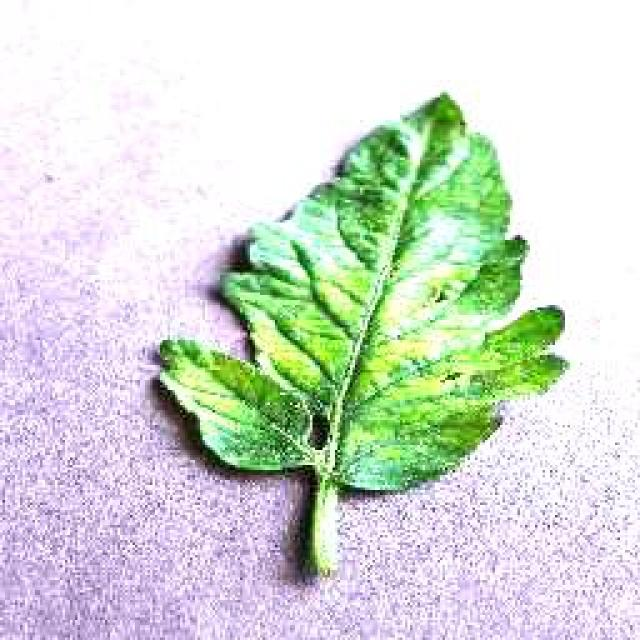Tomato___Tomato_mosaic_virus: (160, 95, 565, 572)
